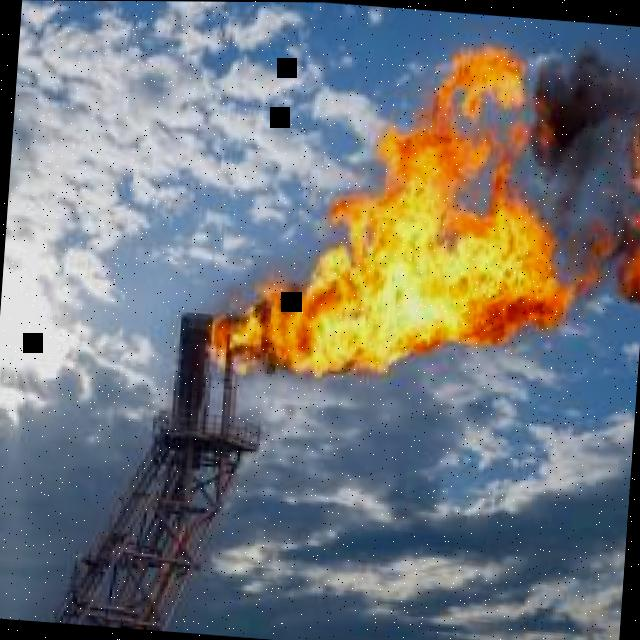fire: (206, 45, 599, 377), (618, 233, 640, 301), (623, 116, 640, 165), (623, 155, 640, 191)
smoke: (527, 42, 640, 282)
